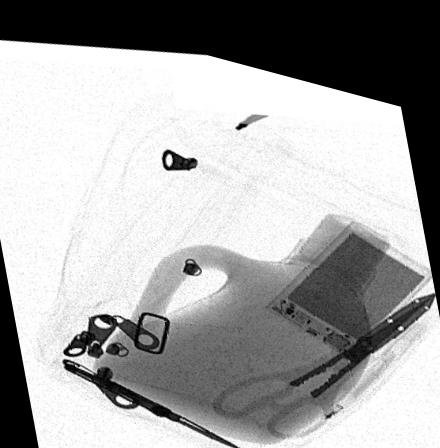Knife: (60, 352, 249, 440)
Powerbank: (264, 200, 430, 342)
Scissors: (211, 266, 431, 420)
